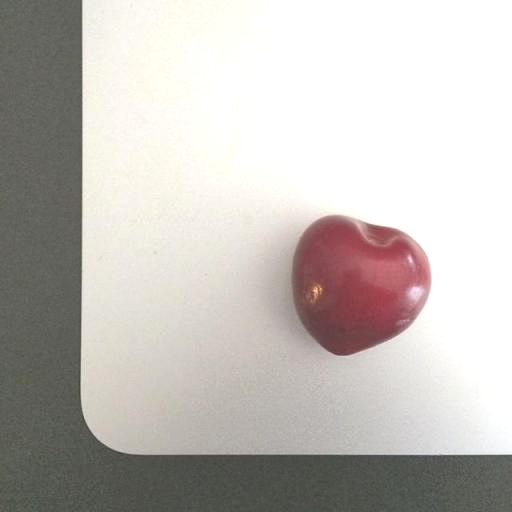fruit: (292, 216, 430, 355)
